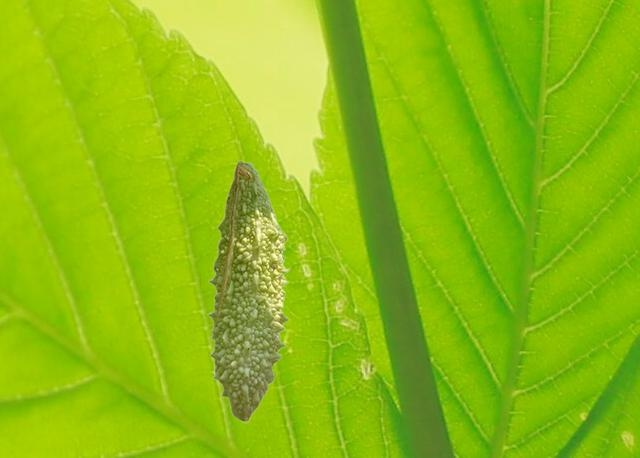ampalaya: (206, 158, 292, 425)
